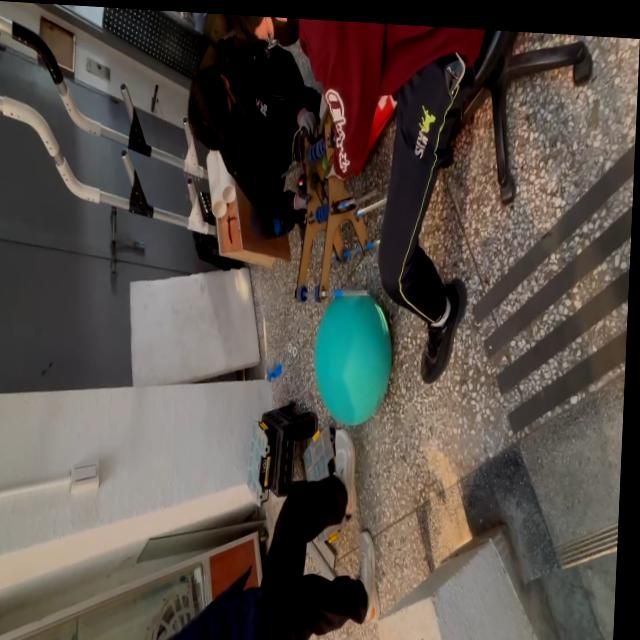ALGAE: (310, 286, 396, 431)
